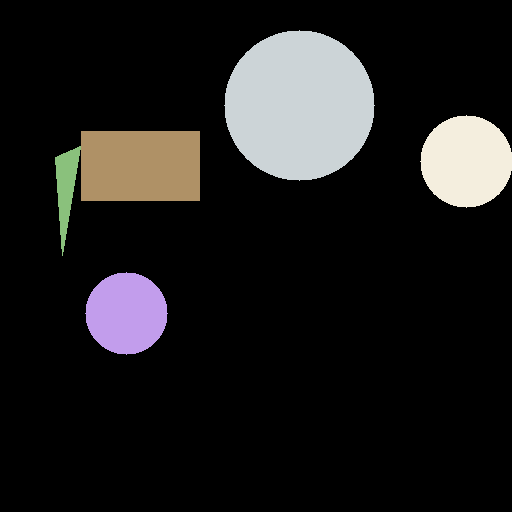circle: (224, 30, 374, 180), (55, 131, 199, 255), (420, 115, 511, 207), (85, 272, 167, 354)
